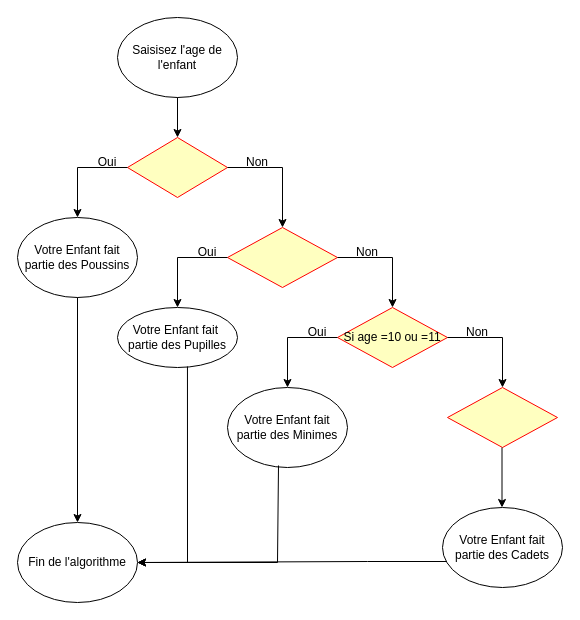
The diagram is 580 pixels wide and 620 high, and some of its shapes have lost their labels. The centre of each missing label's shape, as x and y in pixels:
Si Age = 6 ou =7: point 177,167
Si age = ou > 12: point 502,417
Si Age =8 ou =9: point 282,257
